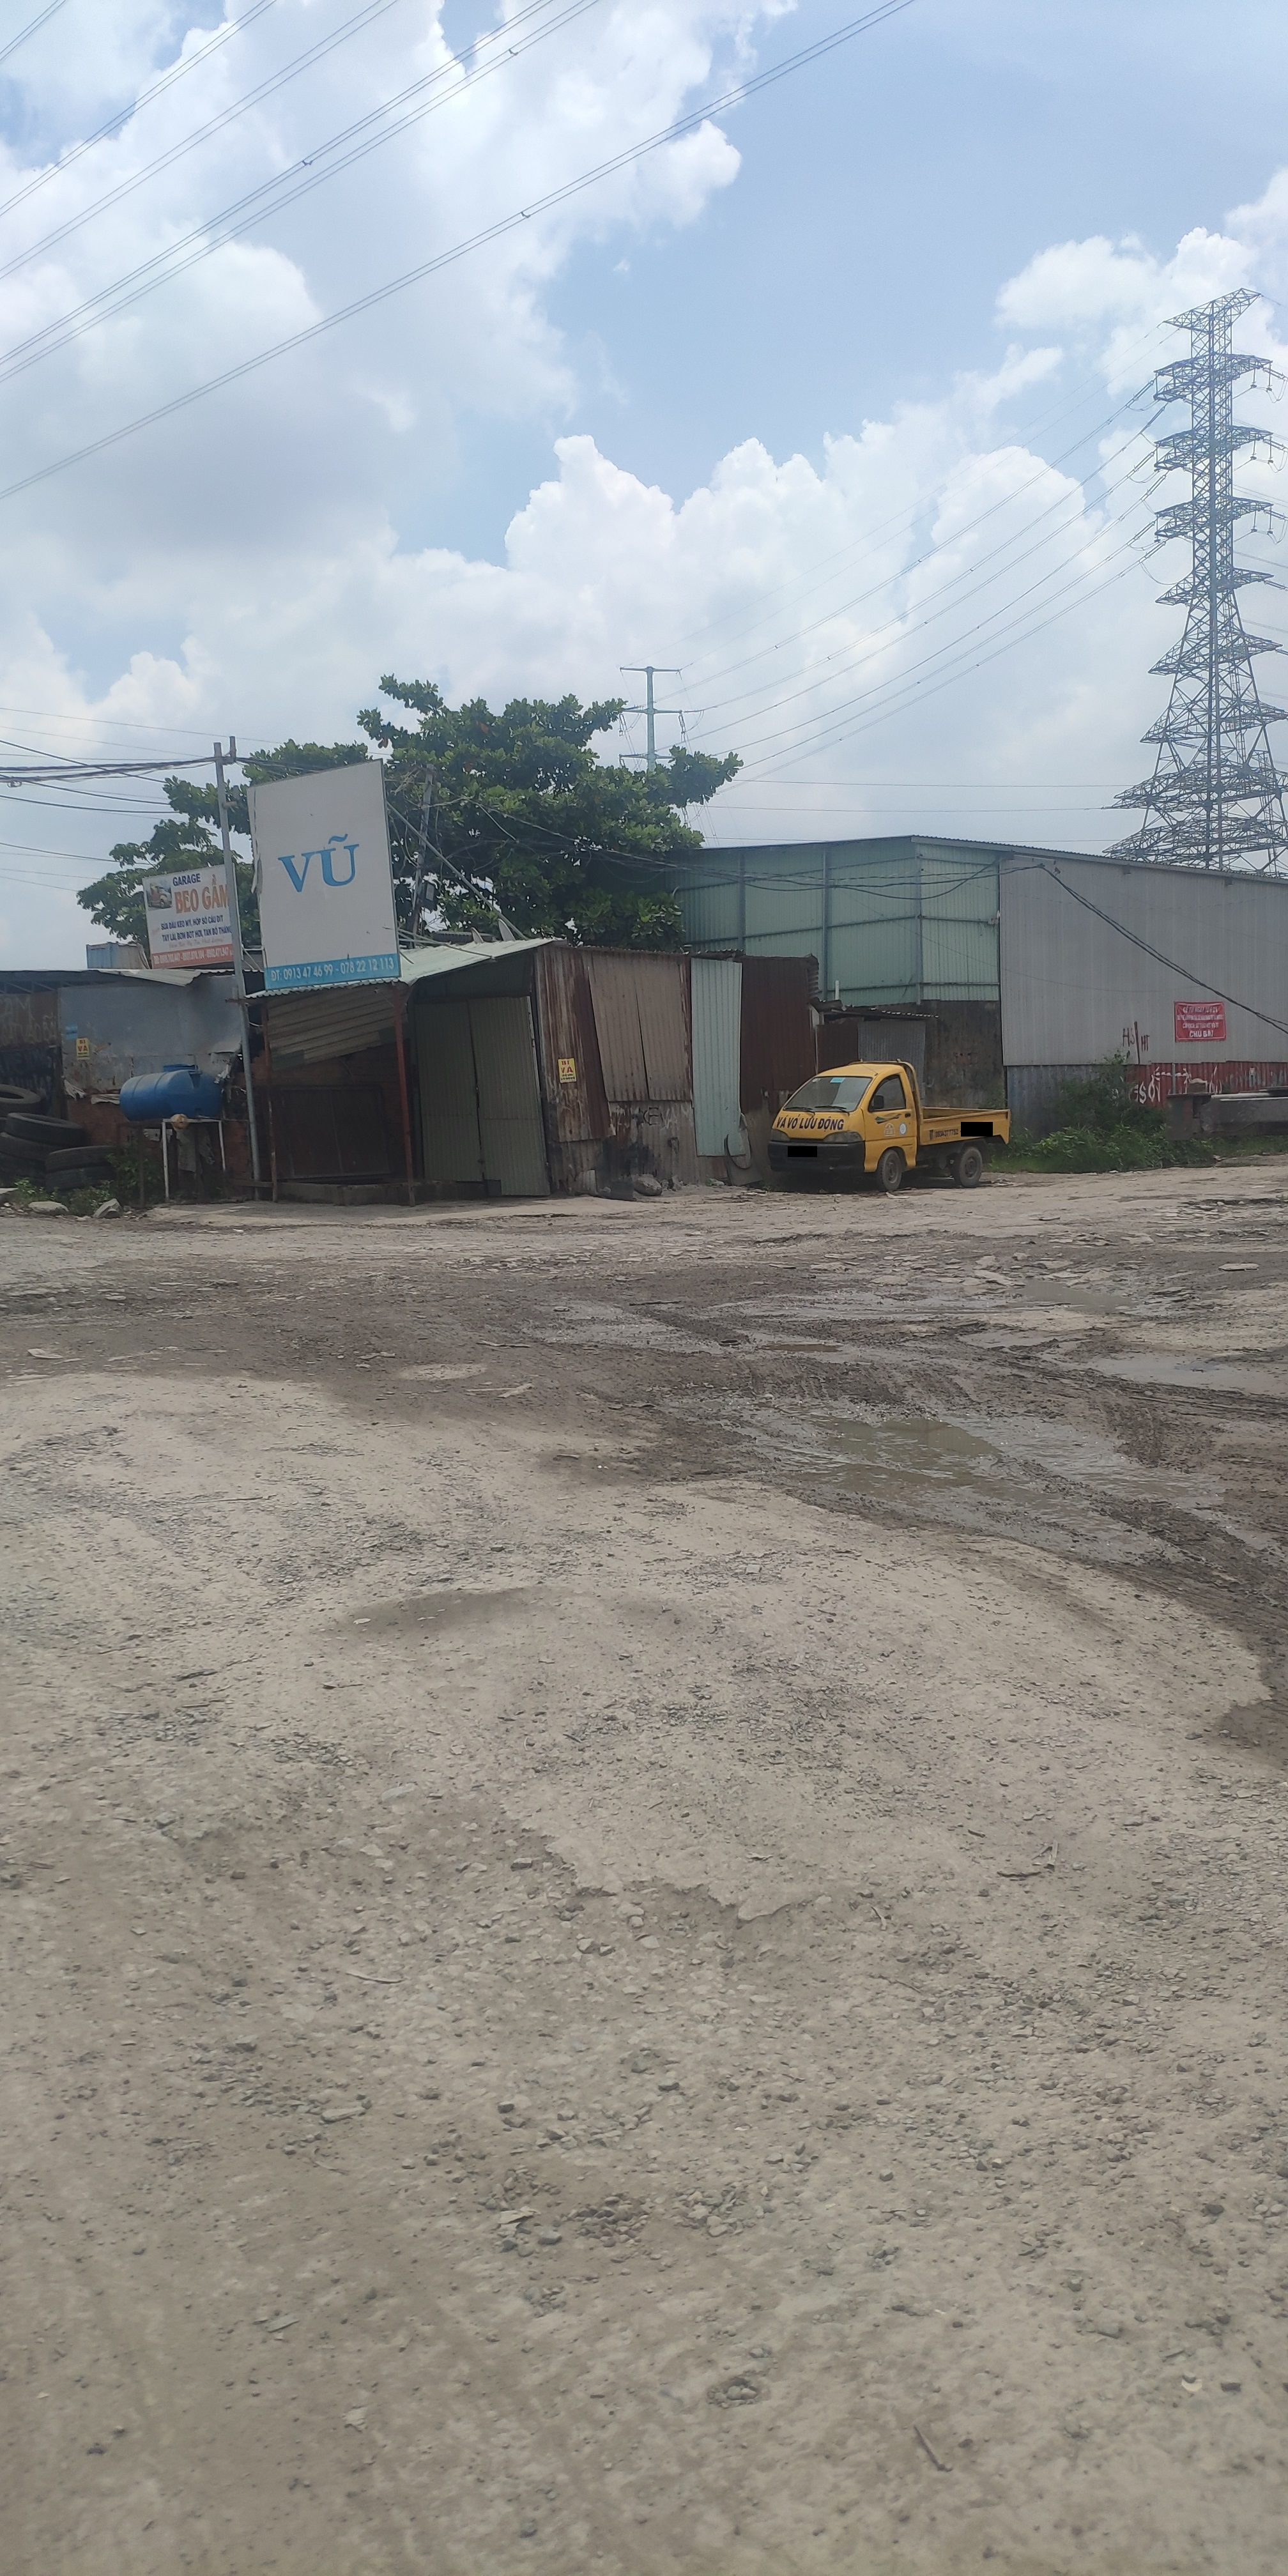hole: (751, 1373, 1112, 1525), (0, 1276, 181, 1329), (1171, 1193, 1288, 1216), (741, 1227, 839, 1253), (869, 1227, 996, 1245)
